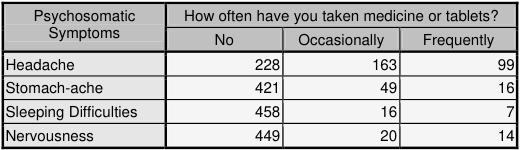table: (4, 3, 513, 144)
table column: (4, 3, 159, 144), (159, 3, 288, 144), (288, 3, 408, 144), (408, 3, 513, 144)
table column header: (4, 3, 513, 50)
table row: (4, 26, 513, 50), (4, 50, 513, 74), (4, 74, 513, 98), (4, 98, 513, 122), (4, 3, 513, 26), (4, 122, 513, 144)
table spanning cell: (159, 3, 513, 26), (4, 3, 159, 50)
